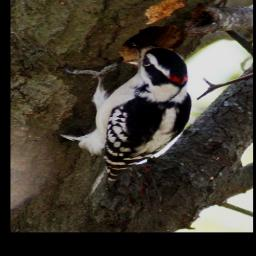Woodpecker: (60, 40, 191, 191)
